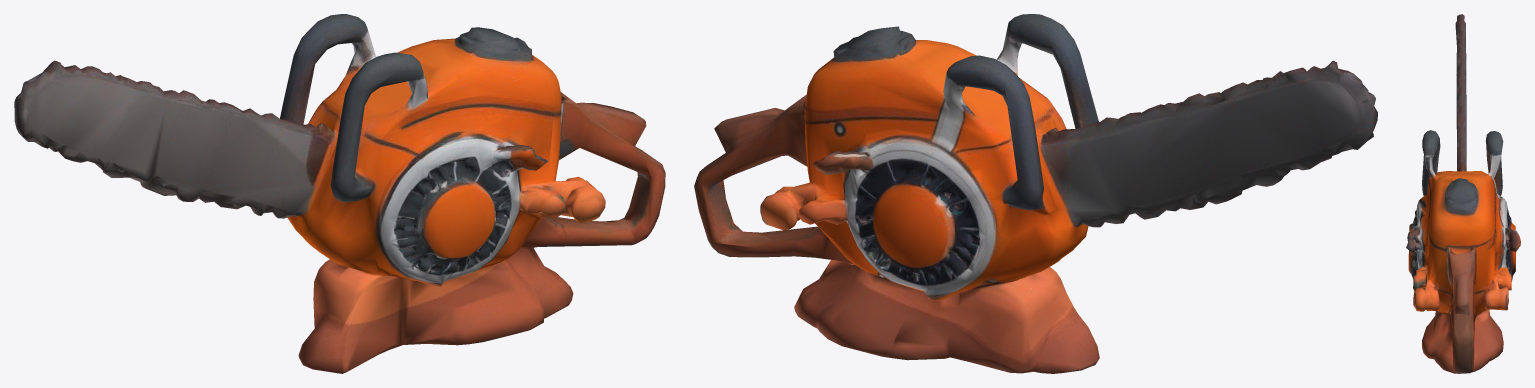
File: chainsaw.glb
3 renders of one model, left to right at view 1: azimuth 30°, elevation 25°; view 2: azimuth 150°, elevation 25°; view 3: azimuth 270°, elevation 25°, orthographic. The views are drawn at different scales.
Parts seen in each view (by area): view 1: Mesh_0; view 2: Mesh_0; view 3: Mesh_0.
Boxes of the visible parts, x1,y1,x2,y2 form: Mesh_0: (14,14,665,373); Mesh_0: (694,14,1377,373); Mesh_0: (1406,14,1520,373).
Size of the model in its own units: 2 by 1.06 by 0.5168.
1 material, 1 textured.
